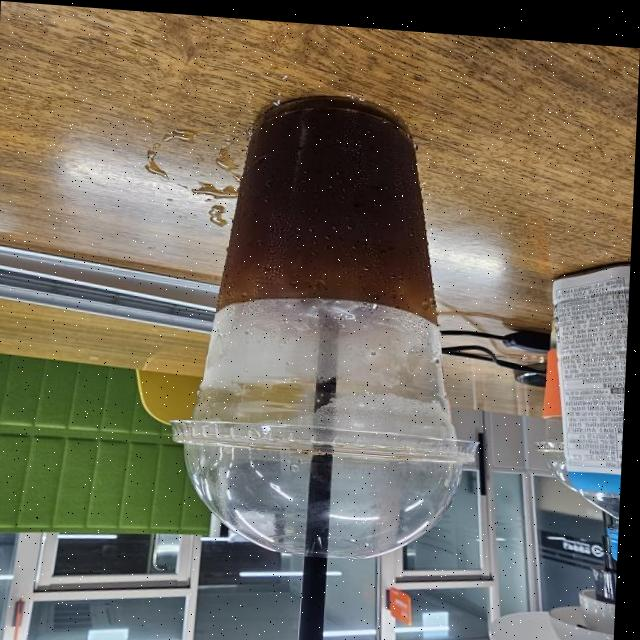cup: (164, 81, 491, 566)
